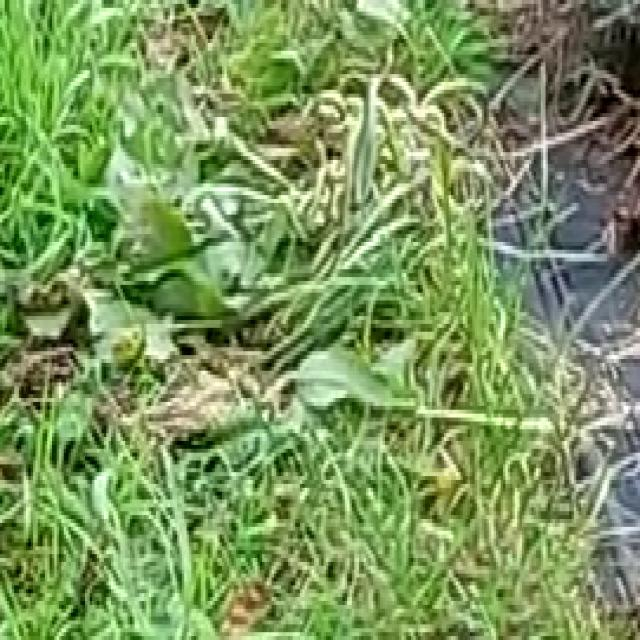organic waste: (80, 51, 380, 421)
